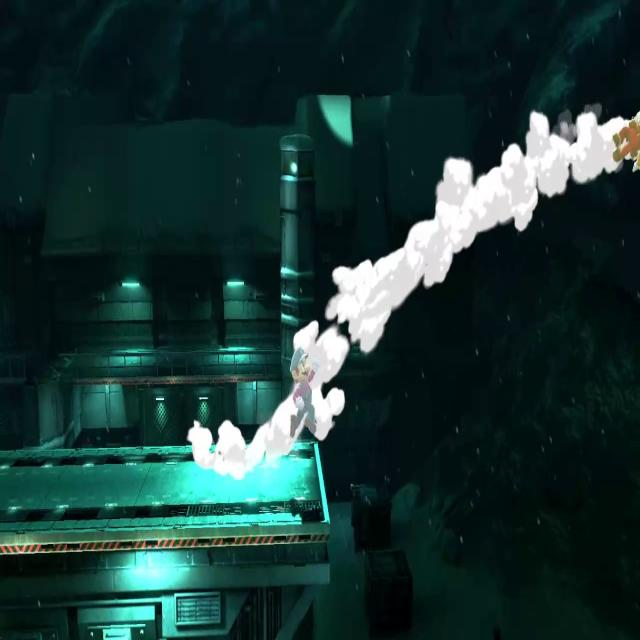Mario: (612, 108, 640, 177)
Mario-jump: (288, 336, 321, 446)
